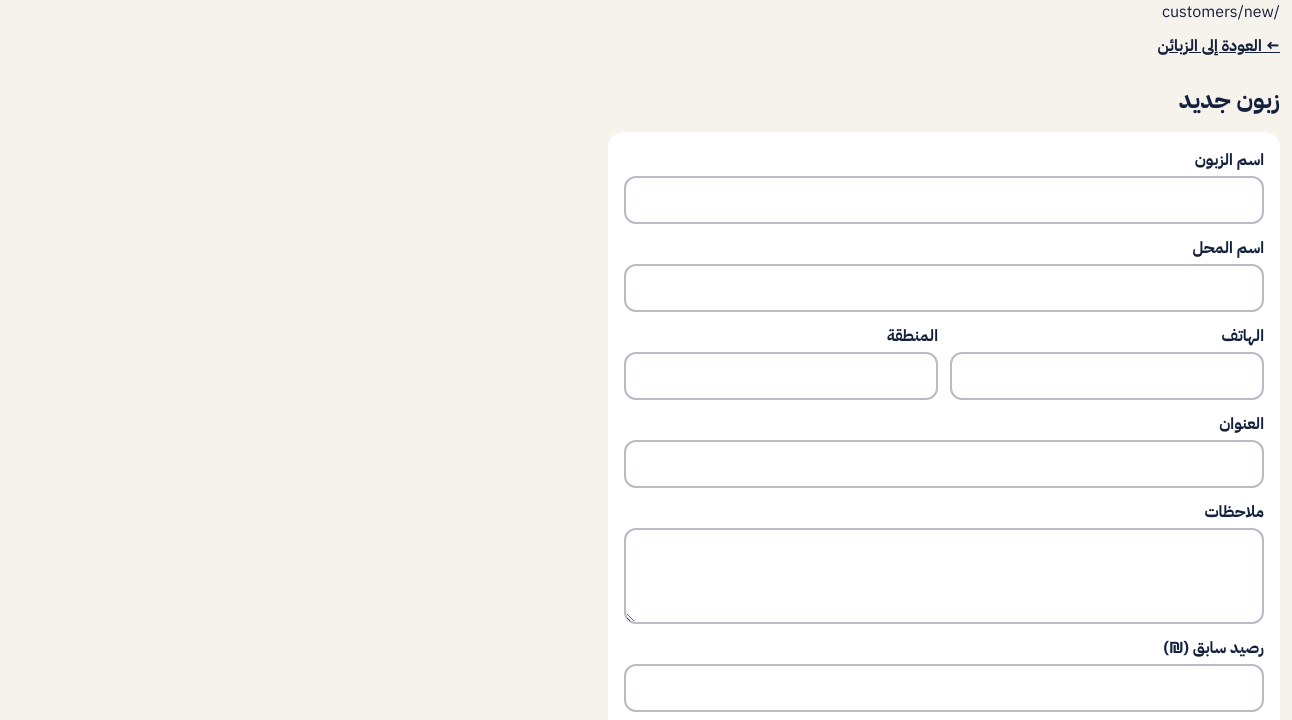
Scenario: adding and editing a customer › adds one offline with an opening balance, saved on the device and queued
This screenshot has width=1292, height=720.
Type "سامي" into the field labelled "اسم الزبون" at (944, 200), box [624,176,1264,224]
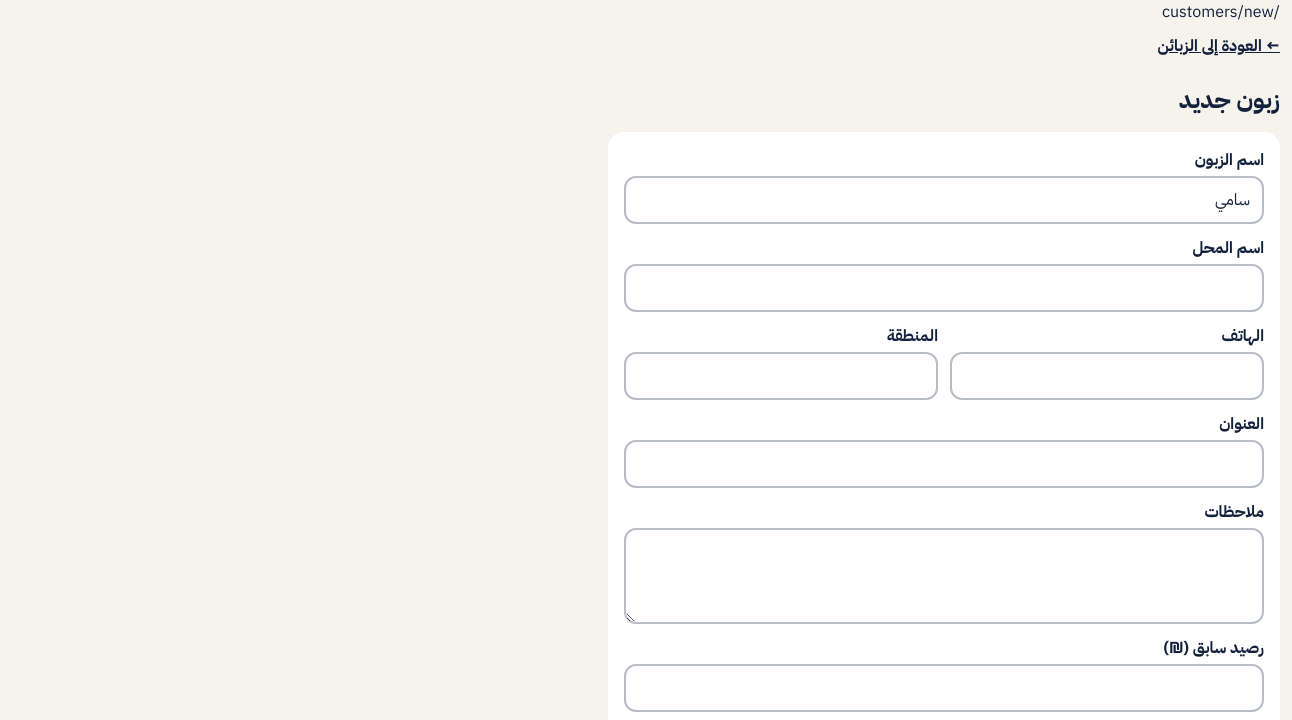
Type "0599000111" into the field labelled "الهاتف" at (1107, 376), box [950,352,1264,400]
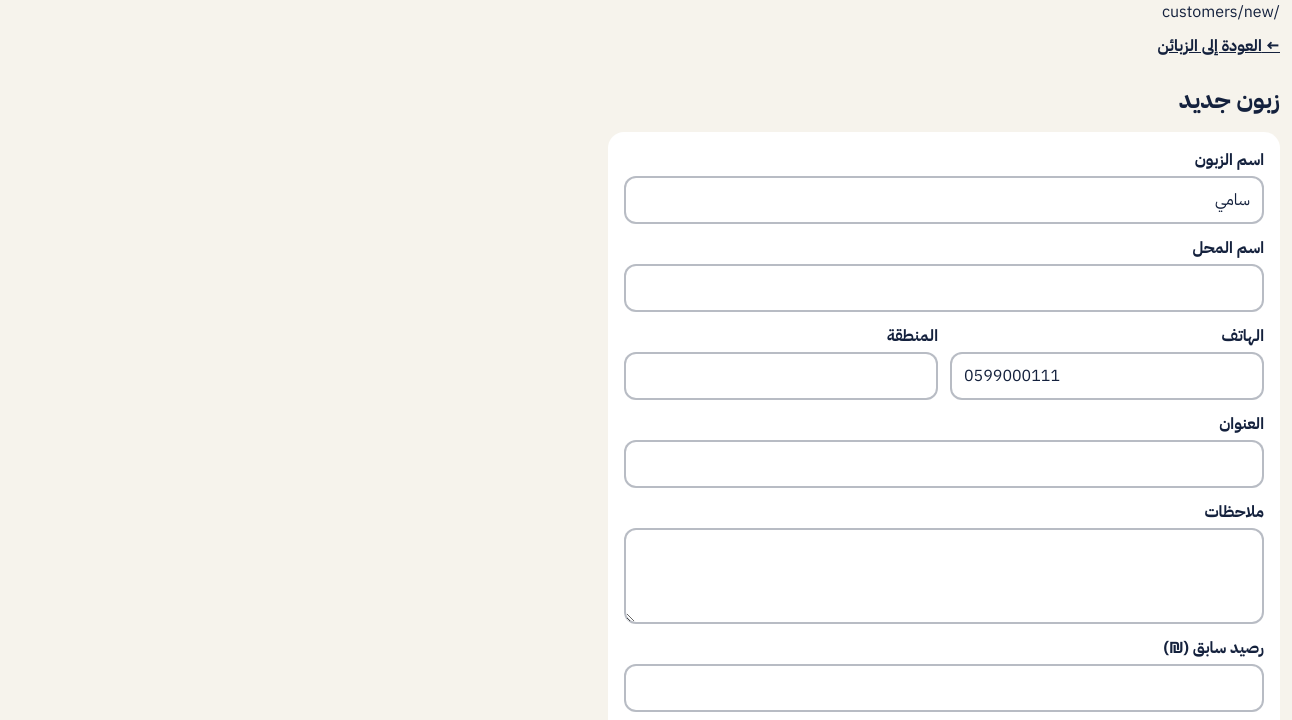
Type "250.50" into the field labelled "رصيد سابق (₪)" at (944, 688), box [624,664,1264,712]
(page scrolled)
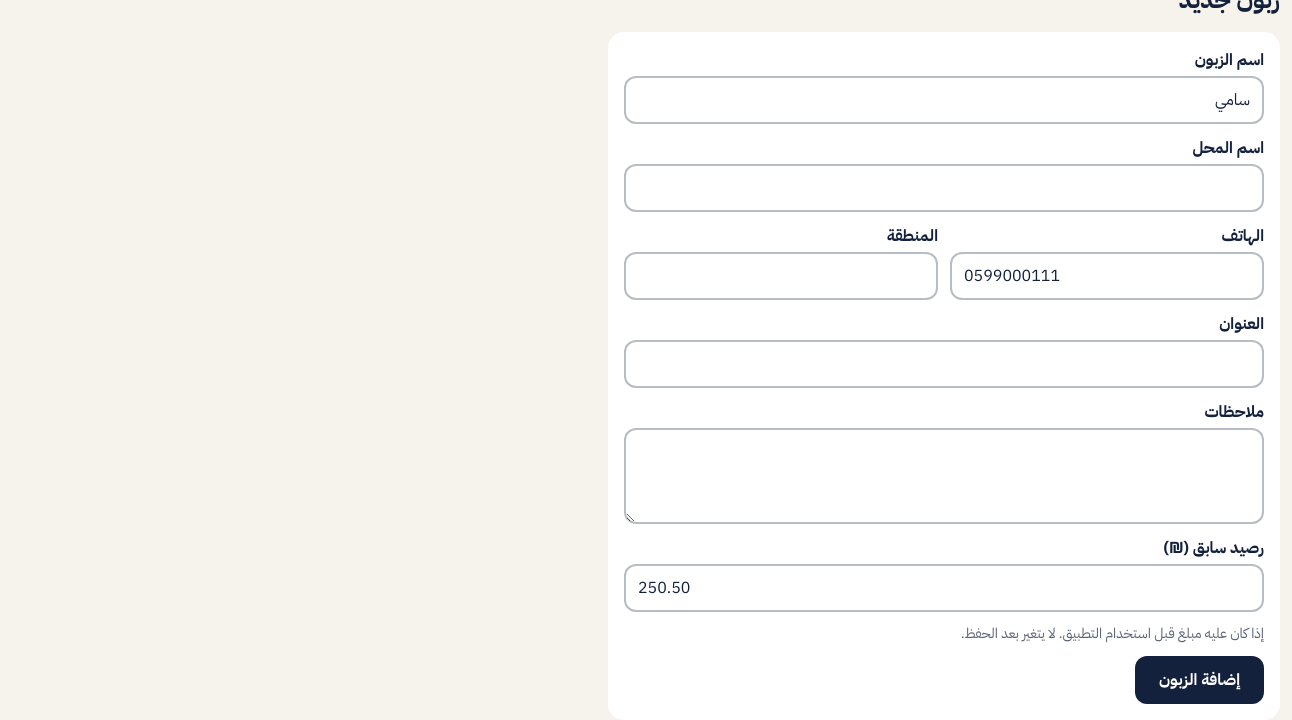
Click the button "إضافة الزبون" at (1200, 680), box [1135,656,1264,704]
(page scrolled)
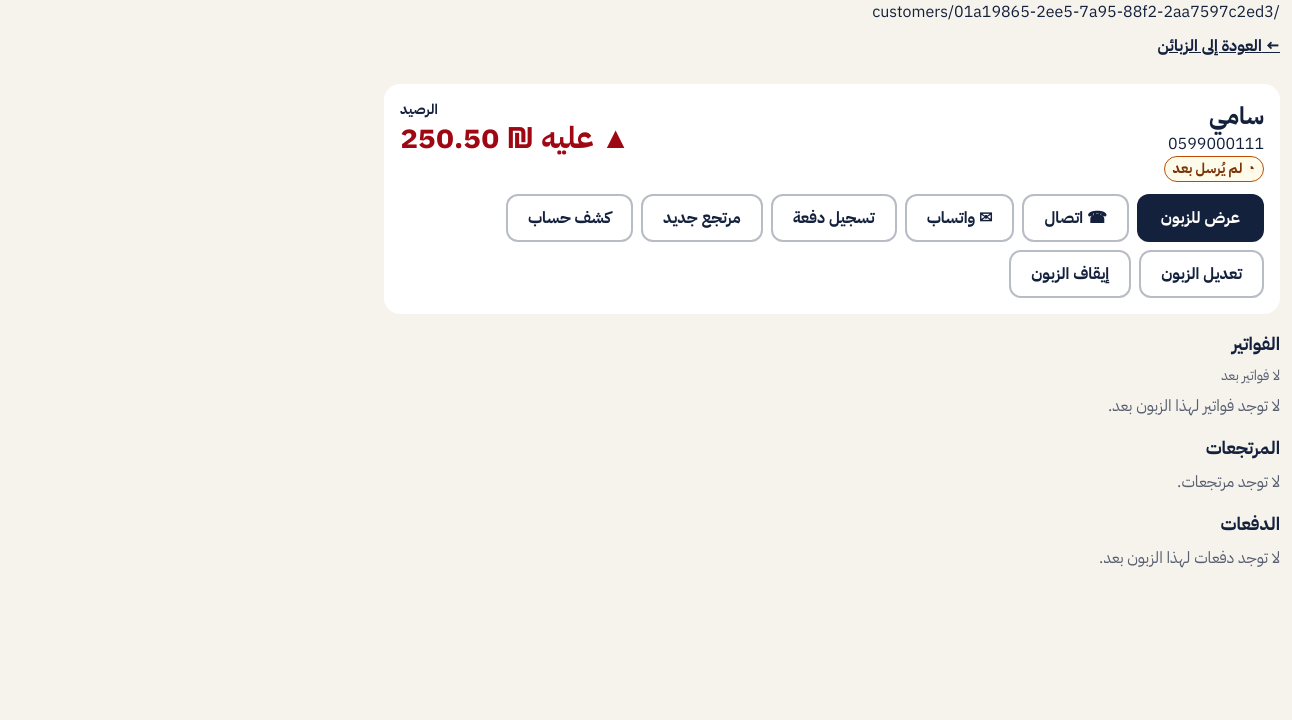
expect the text with test id "where" reads "/customers/01a19865-2ee5-7a95-88f2-2aa7597c2ed3": met, box [872,0,1280,24]
expect the text "عليه ₪ 250.50" is shown: met, box [400,115,594,160]
